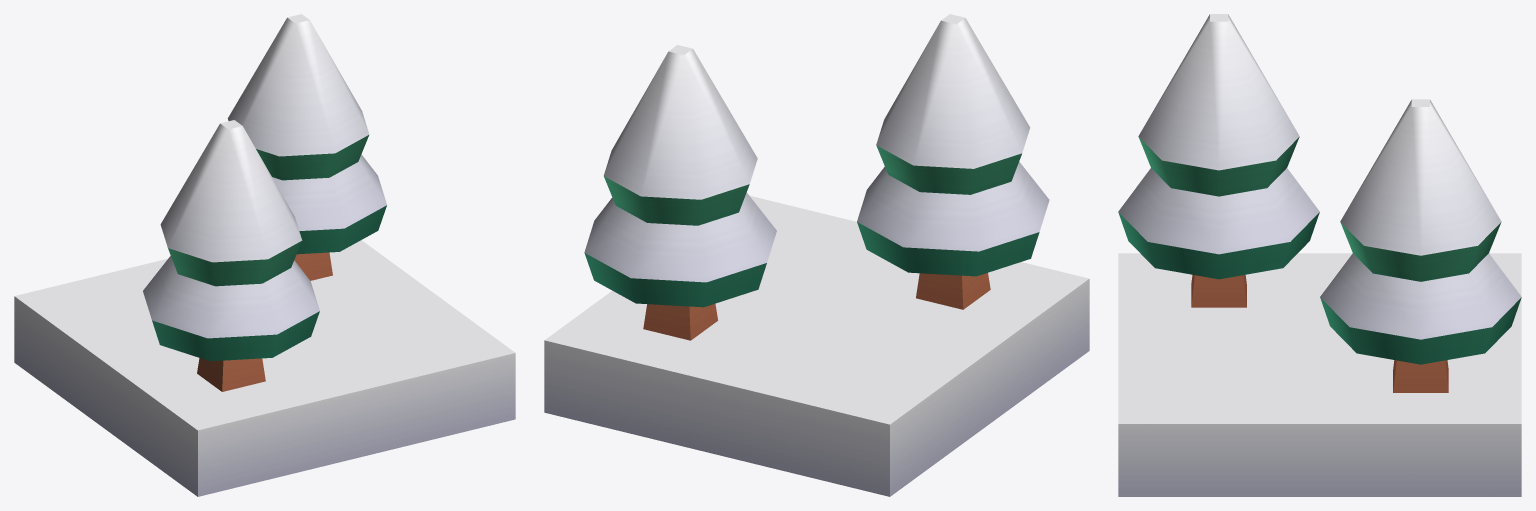
File: snow-tile-tree-double.fbx
3 views of the same model, side by side, from view 1: azimuth 30°, elevation 25°; view 2: azimuth 150°, elevation 25°; view 3: azimuth 270°, elevation 25° (orthographic). The views are drawn at different scales.
Visible parts, largest first — view 1: snow-tile-tree-double; view 2: snow-tile-tree-double; view 3: snow-tile-tree-double.
Boxes of the visible parts, left/top/right/bottom form: snow-tile-tree-double: left=14, top=14, right=515, bottom=496; snow-tile-tree-double: left=544, top=14, right=1089, bottom=496; snow-tile-tree-double: left=1118, top=14, right=1521, bottom=496.
Bounding box in the file's own units: 100 × 96 × 100.
